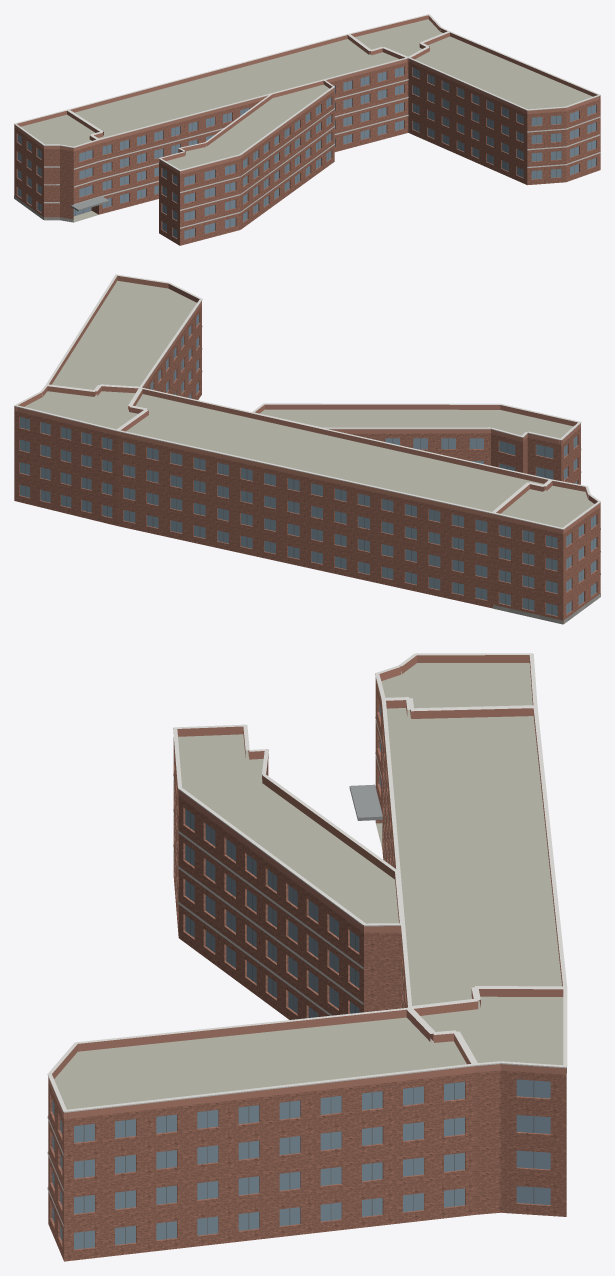
3 renders of one model, top to bottom at view 1: azimuth 30°, elevation 25°; view 2: azimuth 150°, elevation 25°; view 3: azimuth 270°, elevation 25°, orthographic. The views are drawn at different scales.
Parts seen in each view (by area): view 1: intlHouseMain__wall, intlHouseMain__roof, intlHouseMain__glass, intlHouseMain__parapet, intlHouseMain__trim, intlHouseMain__frame; view 2: intlHouseMain__wall, intlHouseMain__roof, intlHouseMain__glass, intlHouseMain__parapet, intlHouseMain__trim, intlHouseMain__frame, intlHouseMain__base; view 3: intlHouseMain__roof, intlHouseMain__wall, intlHouseMain__glass, intlHouseMain__parapet, intlHouseMain__trim, intlHouseMain__frame, intlHouseMain__canopy.
Part boxes in pixels (bbox=[...]): intlHouseMain__wall: bbox=[14, 61, 600, 245]; intlHouseMain__roof: bbox=[21, 19, 592, 222]; intlHouseMain__glass: bbox=[17, 67, 596, 238]; intlHouseMain__parapet: bbox=[14, 15, 600, 174]; intlHouseMain__trim: bbox=[14, 14, 600, 228]; intlHouseMain__frame: bbox=[29, 68, 591, 237]; intlHouseMain__wall: bbox=[14, 304, 600, 624]; intlHouseMain__roof: bbox=[24, 280, 594, 527]; intlHouseMain__glass: bbox=[20, 314, 596, 615]; intlHouseMain__parapet: bbox=[14, 275, 600, 533]; intlHouseMain__trim: bbox=[14, 274, 600, 574]; intlHouseMain__frame: bbox=[25, 338, 593, 614]; intlHouseMain__base: bbox=[493, 593, 600, 624]; intlHouseMain__roof: bbox=[54, 663, 563, 1109]; intlHouseMain__wall: bbox=[48, 681, 566, 1261]; intlHouseMain__glass: bbox=[52, 705, 550, 1249]; intlHouseMain__parapet: bbox=[48, 655, 566, 1119]; intlHouseMain__trim: bbox=[47, 653, 567, 1226]; intlHouseMain__frame: bbox=[54, 812, 534, 1248]; intlHouseMain__canopy: bbox=[349, 784, 382, 820].
Bounding box in the file's own units: 94.04 × 14.37 × 45.04.
Materials: 9 (2 with a texture image).
